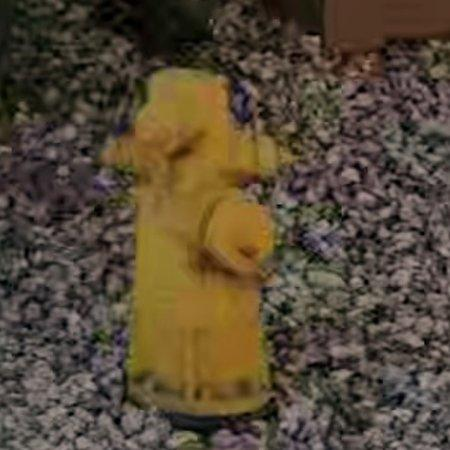a fire hydrant: (103, 69, 278, 416)
